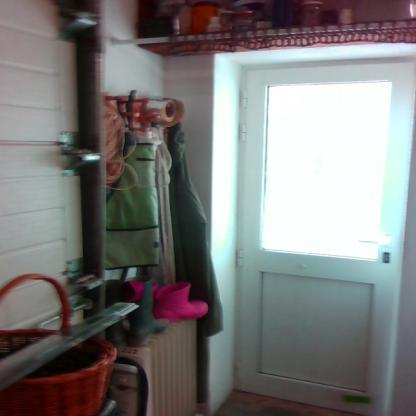door: (242, 71, 392, 403)
hinged: (238, 121, 249, 142), (235, 245, 246, 266), (235, 358, 245, 381), (240, 88, 250, 108)
lever: (350, 233, 394, 250)
